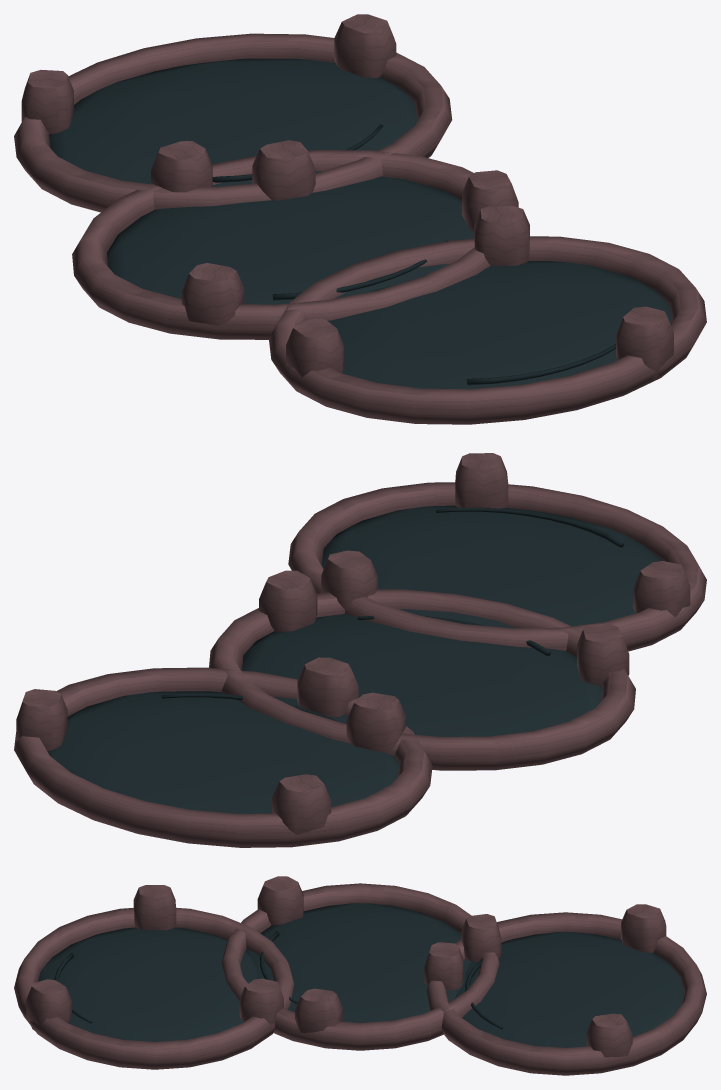
Rendered from PilotTar_0.fbx.
3 views of the same model, one above another, from view 1: azimuth 30°, elevation 25°; view 2: azimuth 150°, elevation 25°; view 3: azimuth 270°, elevation 25° (orthographic). The views are drawn at different scales.
Parts seen in each view (by area): view 1: PilotTar_0__Geometry, PilotTar_0__Water; view 2: PilotTar_0__Geometry, PilotTar_0__Water; view 3: PilotTar_0__Water, PilotTar_0__Geometry.
Boxes of the visible parts, <box> form: PilotTar_0__Geometry: <box>14,14,706,424</box>; PilotTar_0__Water: <box>49,58,671,389</box>; PilotTar_0__Geometry: <box>14,453,706,847</box>; PilotTar_0__Water: <box>47,505,662,813</box>; PilotTar_0__Water: <box>38,903,684,1047</box>; PilotTar_0__Geometry: <box>14,876,706,1075</box>.
Size of the model in its own units: 1.77 by 0.208 by 2.94.
